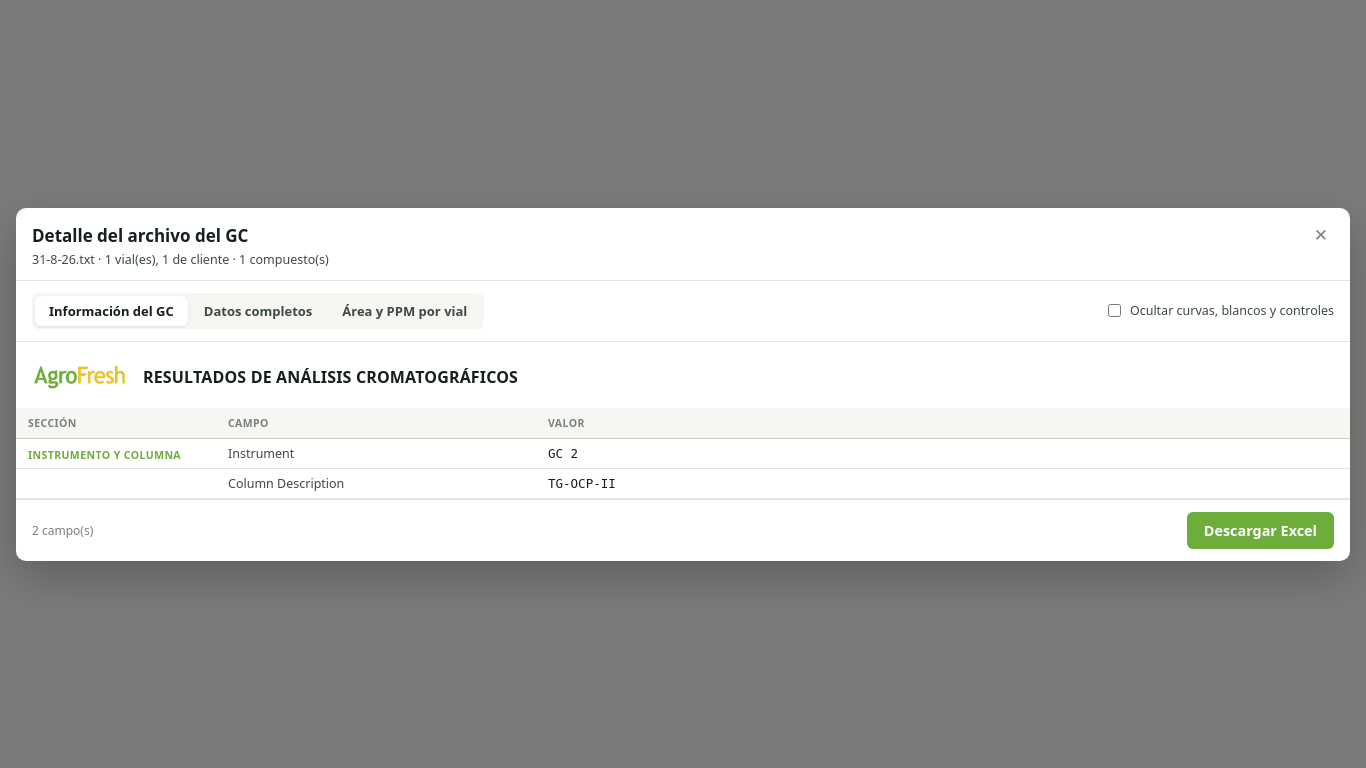
DetalleGCModal › muestra la ubicación del carrusel en la vista por vial
Click the tab "Área y PPM por vial": [405, 310] box [328, 296, 481, 326]
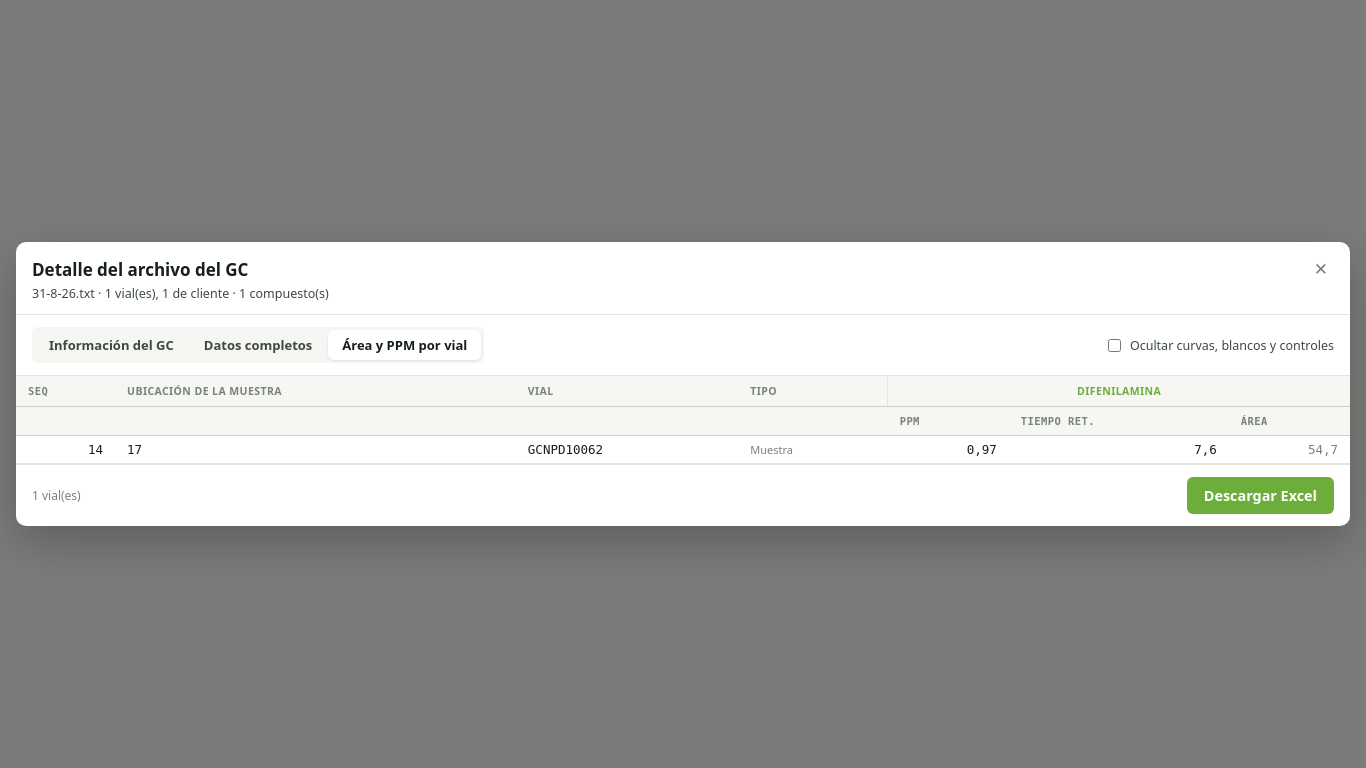
Result: the column heading "Ubicación de la muestra" is shown at [115, 376, 516, 406]
Result: the text "17" is shown at [115, 436, 516, 464]
